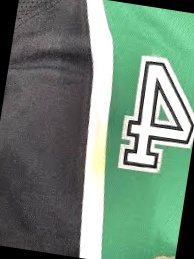mustard: (86, 121, 109, 180)
